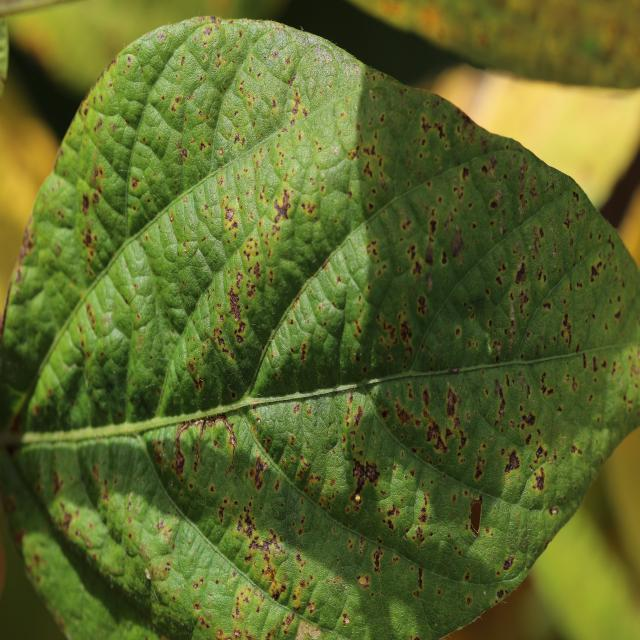Bacterial_Blight: (237, 165, 300, 289), (223, 248, 264, 353), (176, 414, 236, 477), (240, 513, 287, 572), (270, 174, 300, 232), (358, 131, 387, 188), (350, 455, 379, 504), (173, 420, 198, 473), (231, 584, 255, 621), (344, 392, 364, 433), (235, 506, 258, 540), (394, 397, 416, 428), (421, 115, 446, 142), (242, 236, 262, 267), (492, 379, 506, 422), (227, 288, 245, 321), (469, 495, 483, 535), (252, 456, 268, 489), (449, 228, 465, 259), (152, 439, 167, 472), (426, 420, 444, 446), (560, 313, 573, 349), (446, 385, 459, 419), (504, 449, 521, 474), (270, 579, 287, 602), (173, 448, 186, 478), (531, 466, 546, 492), (516, 289, 530, 316), (52, 468, 65, 497), (175, 138, 189, 163), (514, 261, 528, 286), (371, 546, 384, 572), (82, 225, 95, 250), (85, 301, 96, 329), (540, 378, 555, 398), (521, 411, 536, 428), (223, 206, 236, 224), (417, 295, 428, 316), (424, 245, 434, 266), (357, 573, 370, 589), (81, 193, 90, 214), (590, 264, 600, 282), (503, 556, 515, 570), (417, 567, 424, 590), (198, 615, 210, 628), (194, 376, 204, 391), (563, 216, 573, 229), (592, 355, 599, 373), (218, 505, 225, 523), (235, 331, 244, 344), (96, 165, 105, 178), (341, 612, 350, 625), (549, 506, 559, 516), (489, 199, 498, 210), (131, 177, 139, 189), (200, 140, 208, 151), (158, 519, 165, 531), (193, 601, 201, 611), (170, 211, 175, 223)
Soybean: (0, 17, 640, 638)
